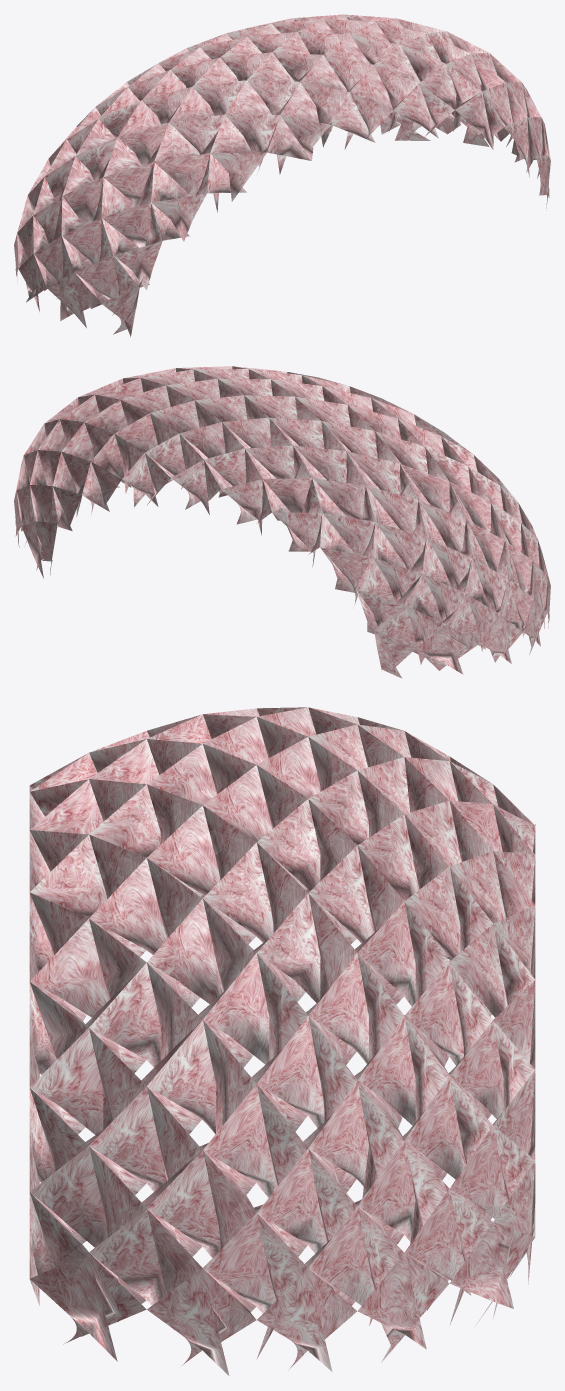
The picture shows the model from 3 angles, top to bottom: view 1: azimuth 30°, elevation 25°; view 2: azimuth 150°, elevation 25°; view 3: azimuth 270°, elevation 25°; orthographic projection. The views are drawn at different scales.
Parts seen in each view (by area): view 1: [0]; view 2: [0]; view 3: [0].
Part boxes in pixels (x1,y1,x2,y2): [0]: (14,14,550,337); [0]: (14,366,550,678); [0]: (29,707,535,1375).
Size of the model in its own units: 4.6 by 1.73 by 1.99.
Materials: 1 (1 with a texture image).
